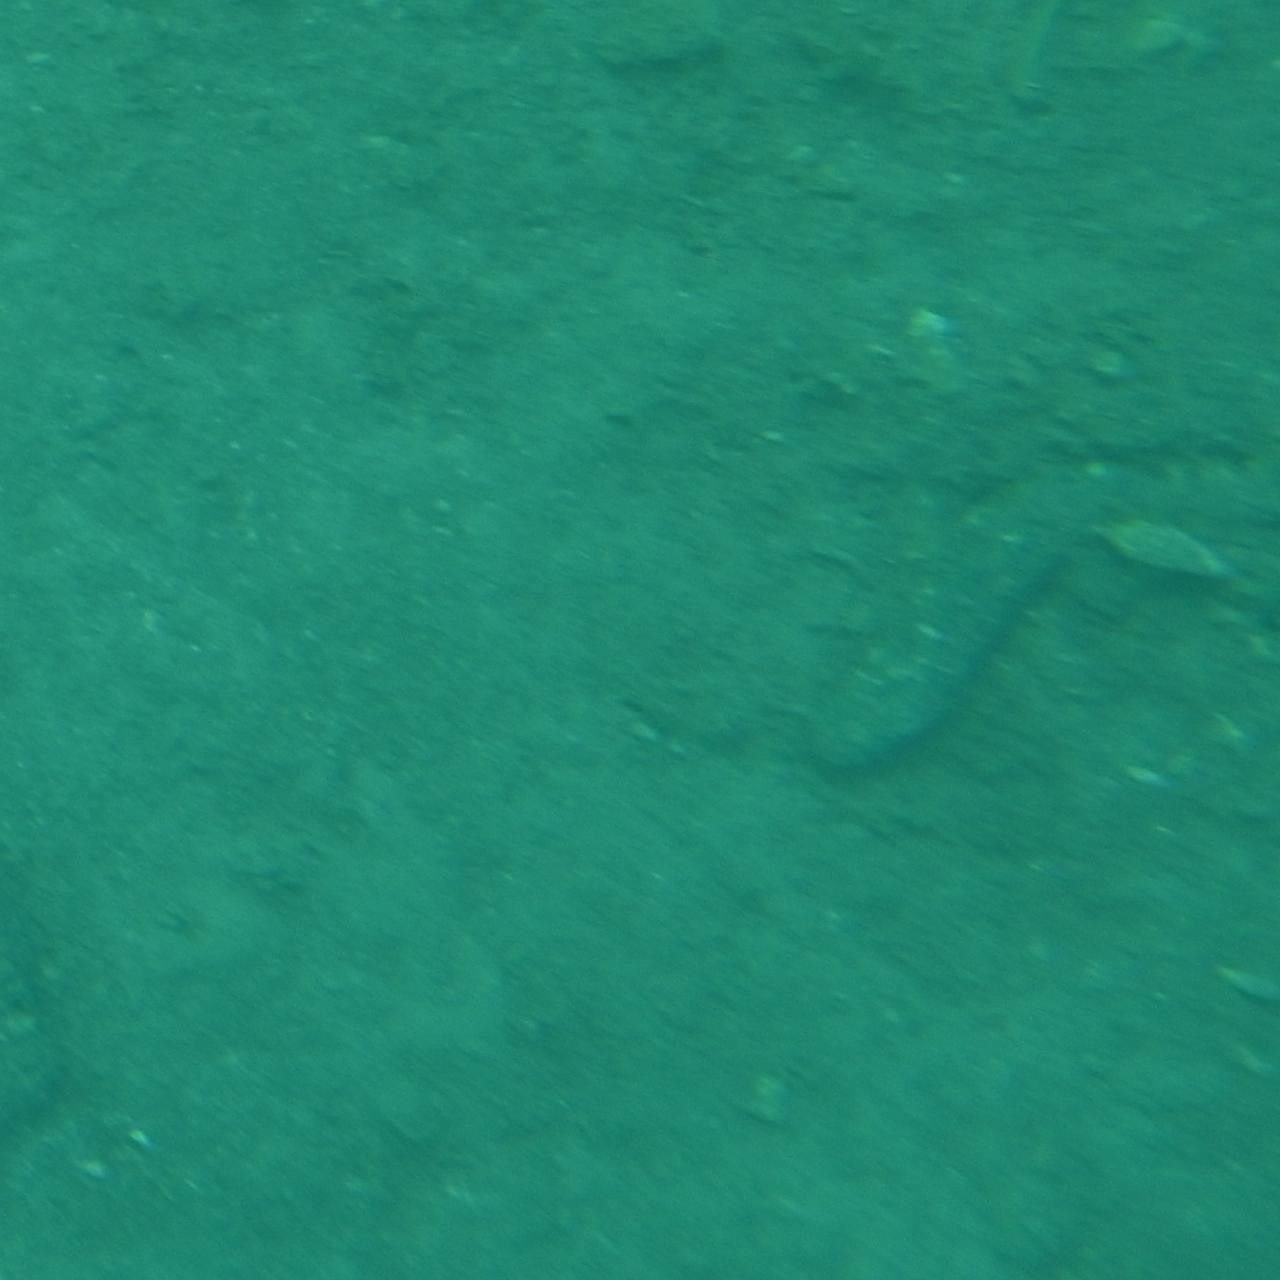Holothuria tubulosa: (809, 469, 1135, 811)
